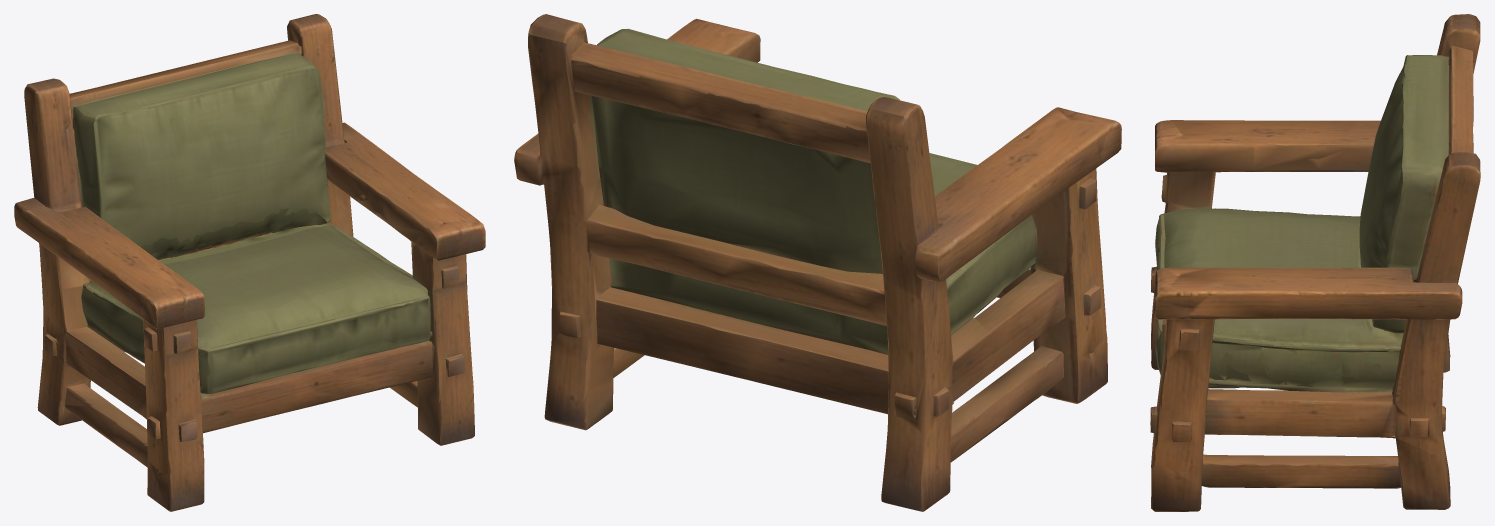
3 views of the same model, side by side, from view 1: azimuth 30°, elevation 25°; view 2: azimuth 150°, elevation 25°; view 3: azimuth 270°, elevation 25° (orthographic). The views are drawn at different scales.
Visible parts, largest first — view 1: geometry_0; view 2: geometry_0; view 3: geometry_0.
Boxes of the visible parts, x1,y1,x2,y2 form: geometry_0: (14,14,485,511); geometry_0: (514,14,1121,511); geometry_0: (1150,14,1480,511).
Size of the model in its own units: 0.9698 by 0.8993 by 0.781.
Materials: 1 (1 with a texture image).
